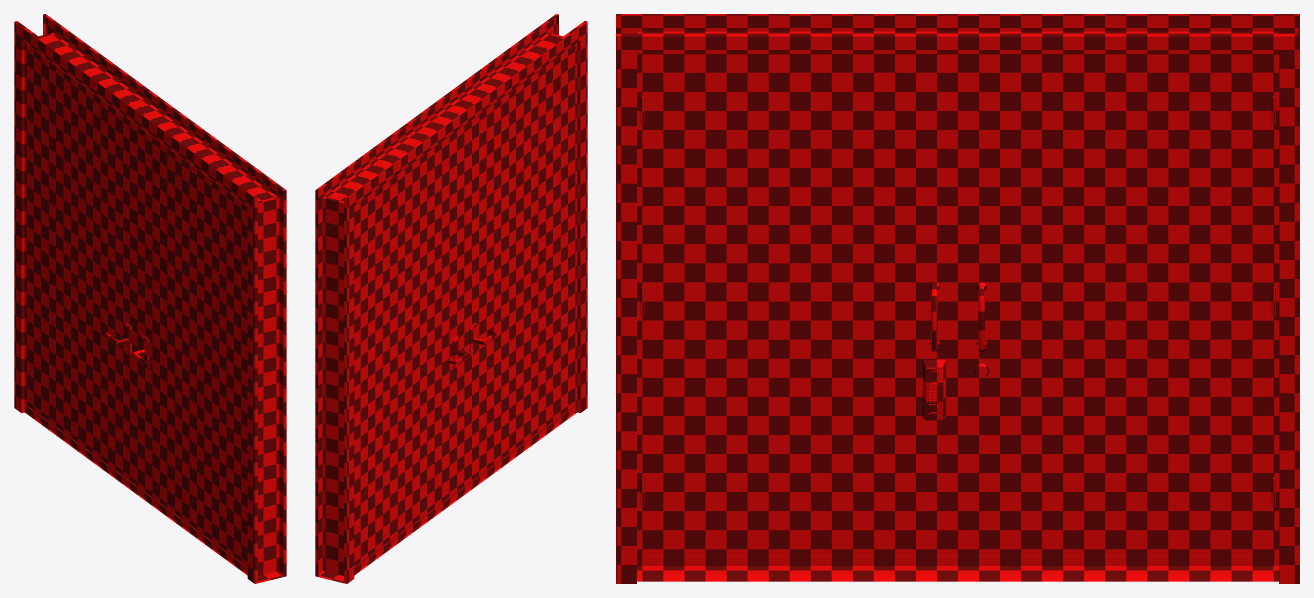
File: missing_double_door.fbx
3 renders of one model, left to right at view 1: azimuth 30°, elevation 25°; view 2: azimuth 150°, elevation 25°; view 3: azimuth 270°, elevation 25°, orthographic. The views are drawn at different scales.
Parts seen in each view (by area): view 1: 54159_mesh; view 2: 54159_mesh; view 3: 54159_mesh.
Part boxes in pixels (<box>): 54159_mesh: <box>14,14,286,583</box>; 54159_mesh: <box>315,14,587,583</box>; 54159_mesh: <box>616,14,1299,583</box>.
Bounding box in the file's own units: 13.25 × 115 × 130.
1 material, 1 textured.
